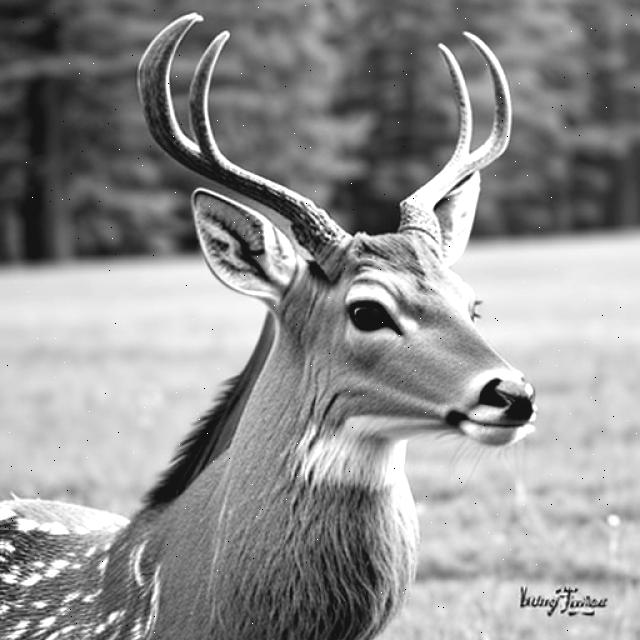deer: (73, 41, 549, 433)
